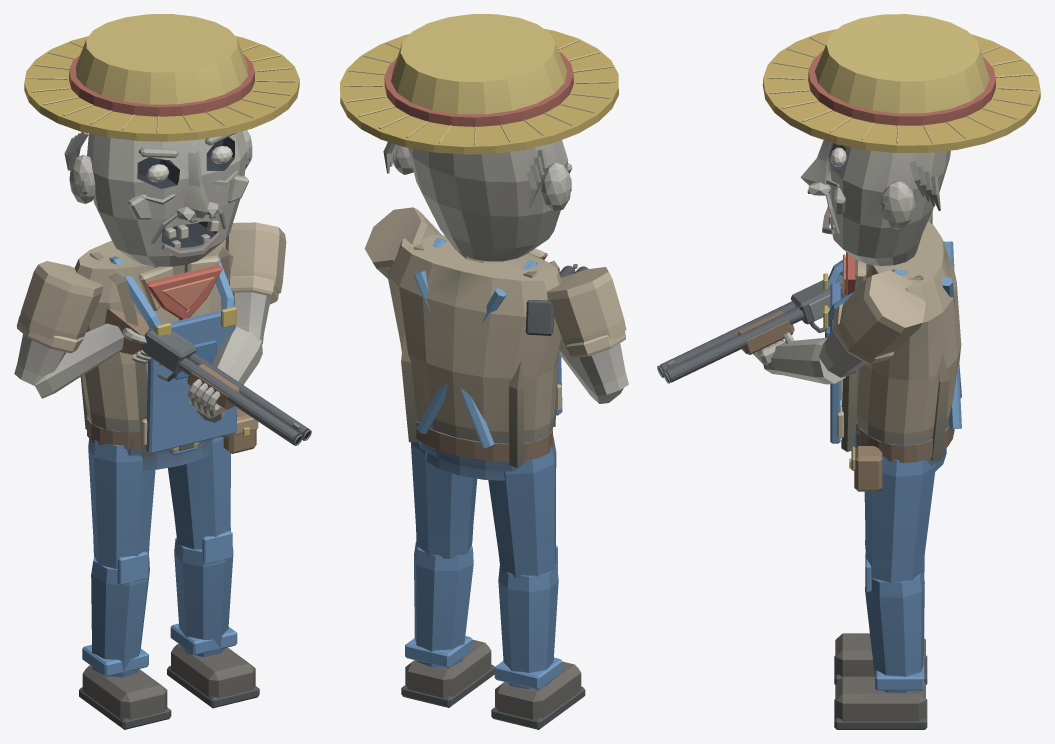
Rendered from GrandfatherFarmer.glb.
3 renders of one model, left to right at view 1: azimuth 30°, elevation 25°; view 2: azimuth 150°, elevation 25°; view 3: azimuth 270°, elevation 25°, orthographic.
Visible parts, largest first — view 1: Head, Body, LegR, LegL, ArmR, ArmL; view 2: Head, Body, LegR, LegL, ArmR, ArmL; view 3: Head, Body, LegL, ArmL, LegR.
Boxes of the visible parts, box(x1,y1,x2,y2) form: Head: box(24, 14, 299, 266); Body: box(74, 240, 311, 470); LegR: box(79, 438, 171, 729); LegL: box(167, 437, 259, 708); ArmR: box(14, 261, 151, 398); ArmL: box(188, 222, 286, 422); Head: box(340, 14, 618, 261); Body: box(387, 235, 588, 480); LegR: box(488, 436, 585, 729); LegL: box(401, 442, 494, 707); ArmR: box(546, 267, 628, 403); ArmL: box(364, 207, 441, 278); Head: box(762, 14, 1040, 265); Body: box(657, 221, 961, 491); LegL: box(834, 456, 935, 729); ArmL: box(753, 270, 925, 384); LegR: box(834, 537, 927, 684).
Bounding box in the file's own units: 2.74 × 6.45 × 3.43.
